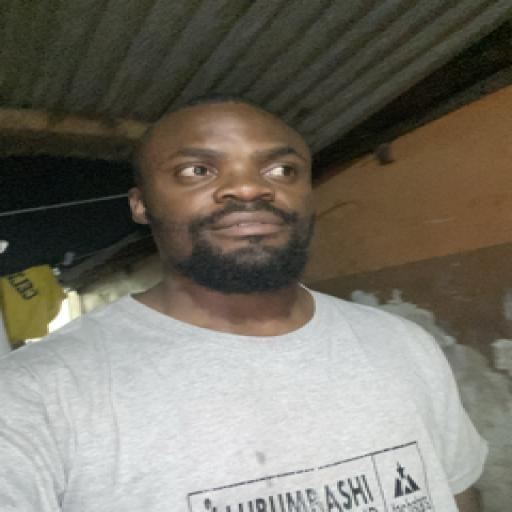JEANLUC: (120, 81, 336, 328)
